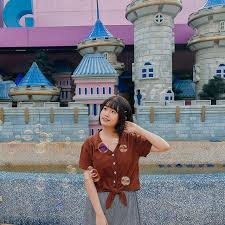people: (81, 97, 141, 225)
